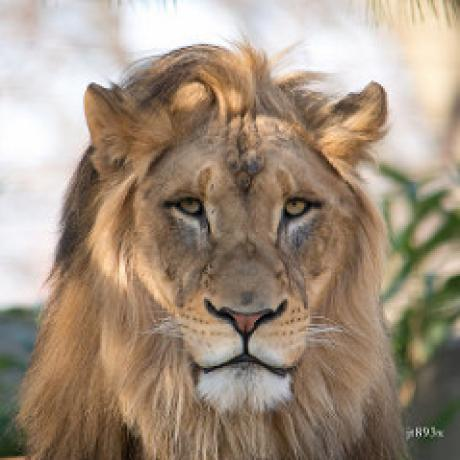Lion: (39, 37, 412, 460)
